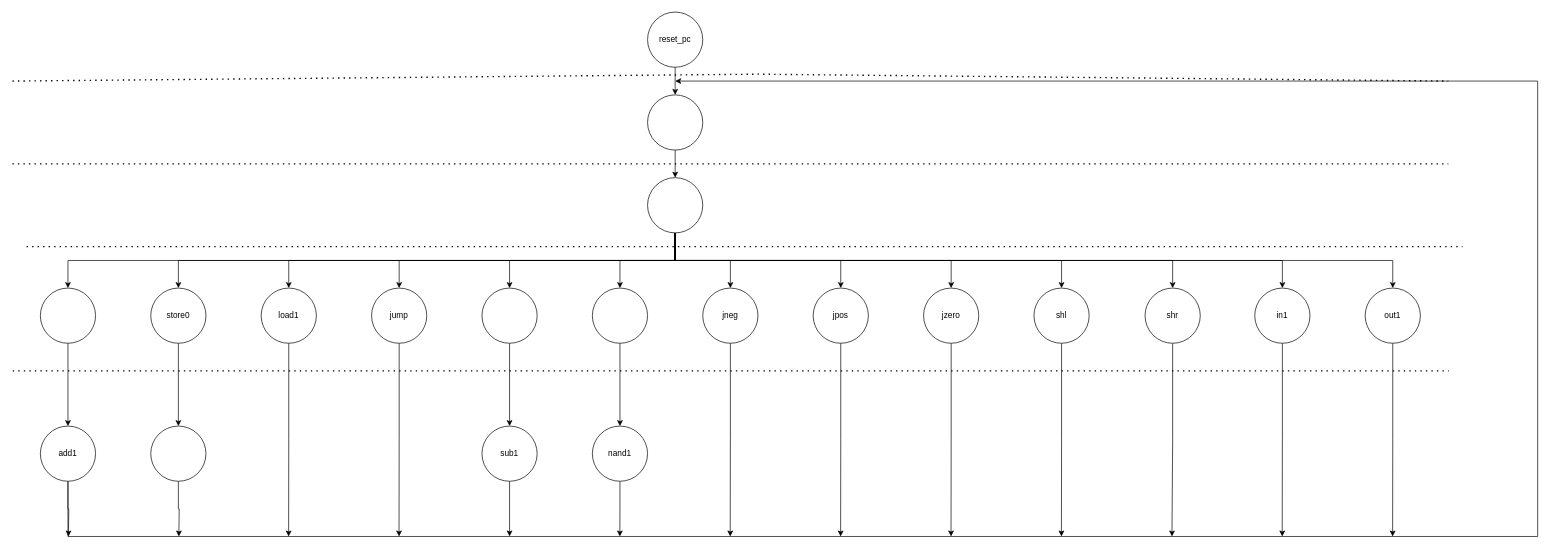
The diagram is 1555 pixels wide and 554 high, and some of its shapes have lost their labels. The shapes that lost their labels are listed below. From the top down, each one's box as (x1, y1, x2, y2) in pixels, then its label:
(647, 94, 703, 150): fetch1
(647, 177, 703, 233): decode
(40, 287, 96, 343): add0
(481, 287, 537, 343): sub0
(592, 287, 648, 343): nand0
(150, 425, 206, 481): store1
